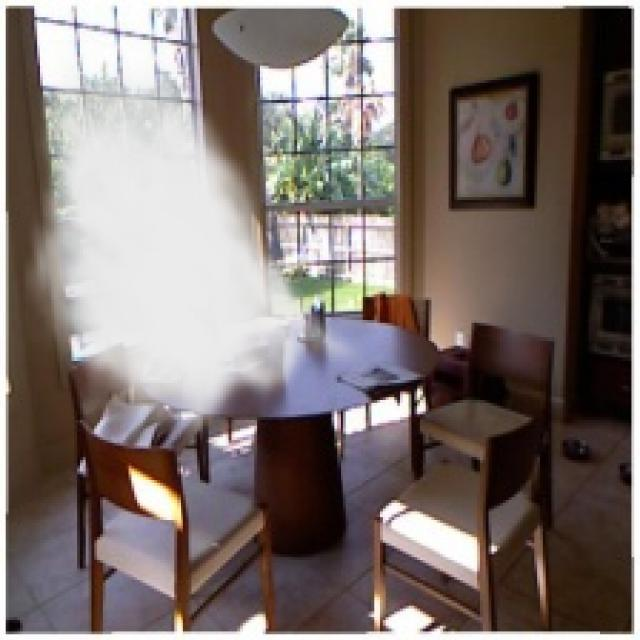Smoke: (22, 40, 368, 446)
